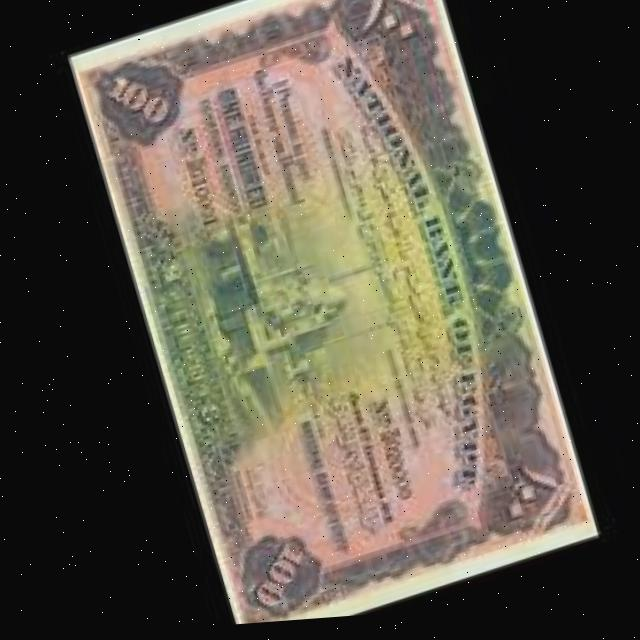banknote: (65, 0, 598, 636)
